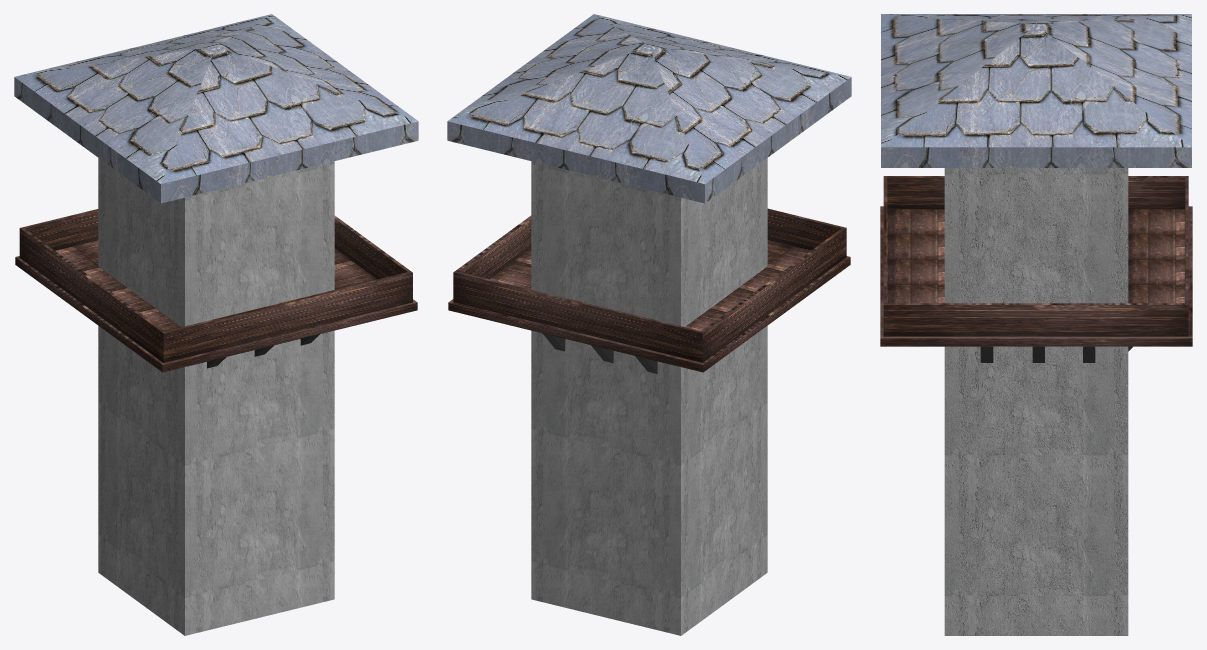
File: Guard Tower.fbx
The picture shows the model from 3 angles, left to right: view 1: azimuth 30°, elevation 25°; view 2: azimuth 150°, elevation 25°; view 3: azimuth 270°, elevation 25°; orthographic projection. The views are drawn at different scales.
Parts seen in each view (by area): view 1: pCube7, pCube8, pasted__pasted__pCube7; view 2: pCube7, pCube8, pasted__pasted__pCube7; view 3: pCube7, pCube8, pasted__pasted__pCube7.
Boxes of the visible parts, bbox=[...] form: pCube7: bbox=[98, 158, 334, 635]; pCube8: bbox=[14, 14, 418, 203]; pasted__pasted__pCube7: bbox=[15, 209, 417, 372]; pCube7: bbox=[531, 158, 767, 635]; pCube8: bbox=[447, 14, 851, 203]; pasted__pasted__pCube7: bbox=[448, 208, 850, 372]; pCube7: bbox=[944, 168, 1128, 635]; pCube8: bbox=[881, 14, 1191, 167]; pasted__pasted__pCube7: bbox=[880, 176, 1192, 346].
Size of the model in its own units: 61.12 by 122 by 60.52.
